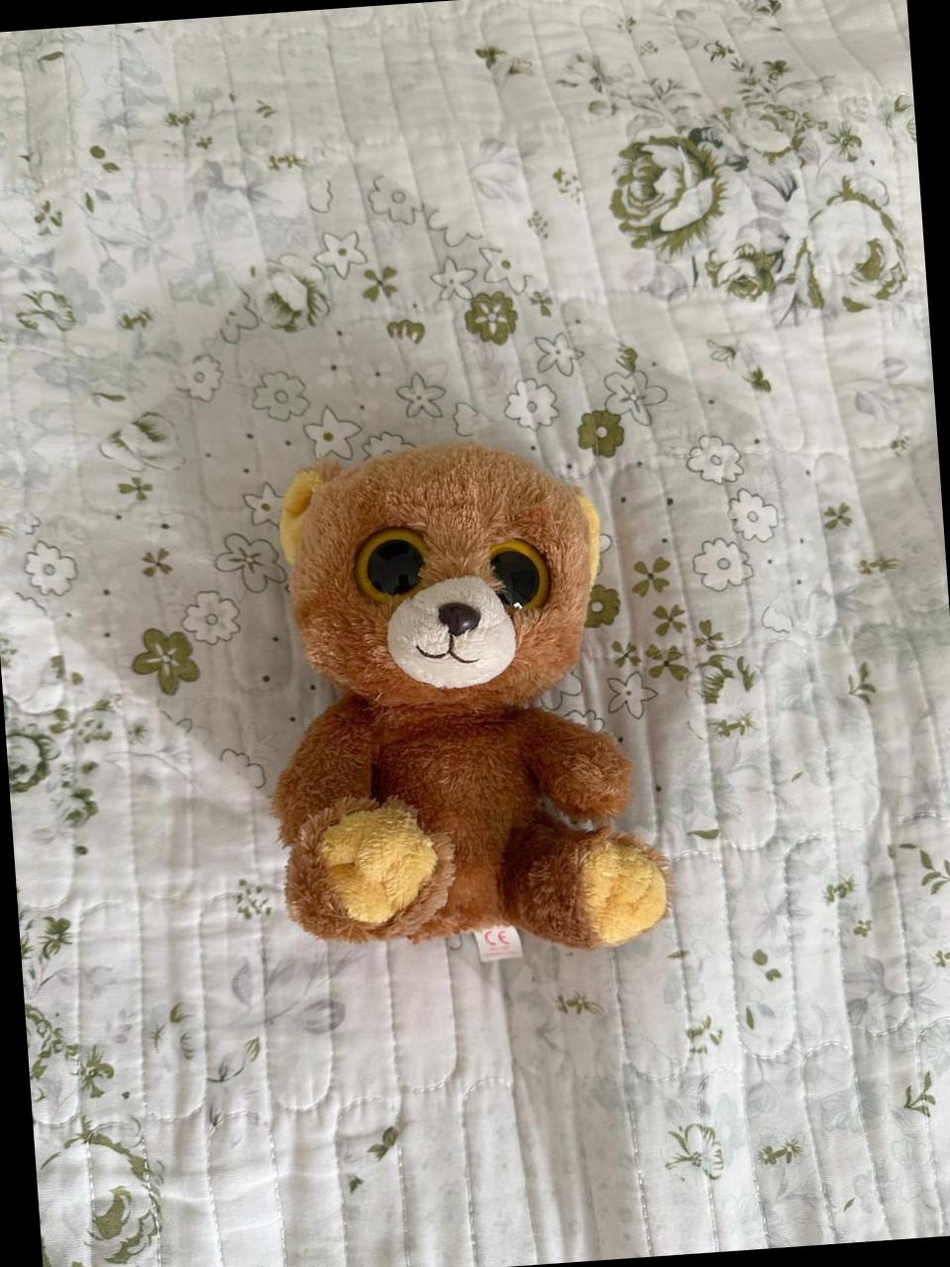peluche_sebastian: (259, 431, 683, 971)
